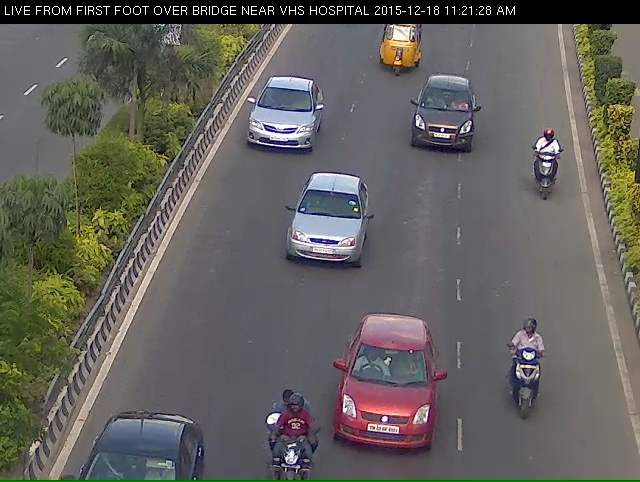Auto: (373, 25, 417, 73)
Car: (328, 333, 439, 476), (279, 184, 369, 281), (399, 79, 488, 163), (241, 89, 322, 164)
Person: (503, 332, 555, 439), (529, 140, 564, 211)
